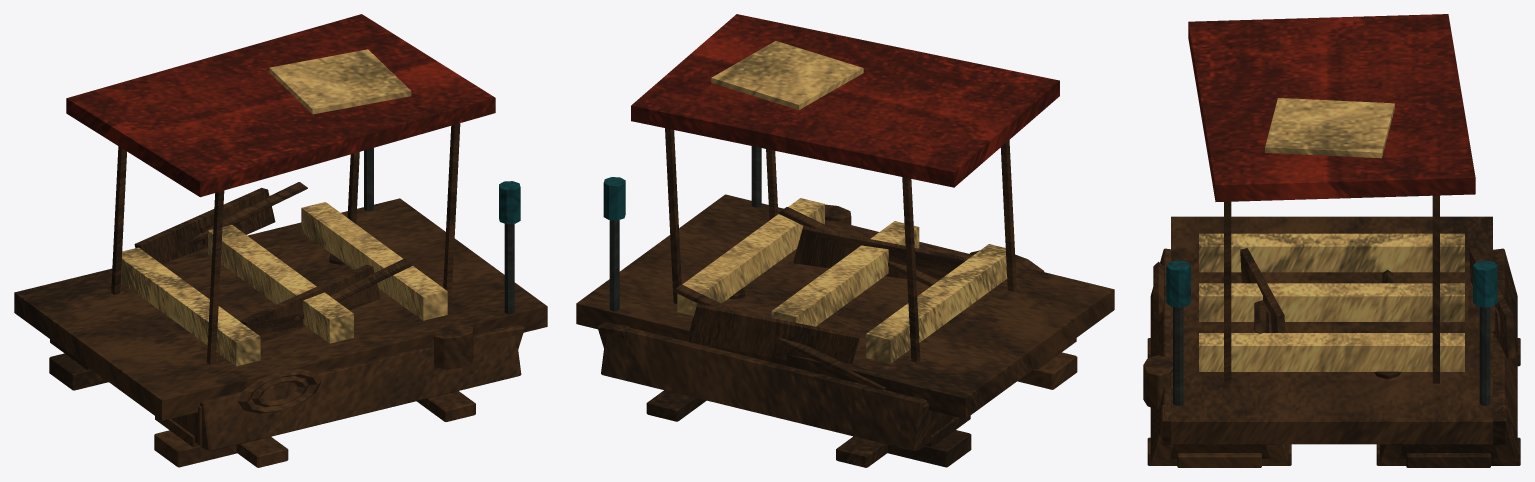
File: spectator-raft-starboard.glb
The picture shows the model from 3 angles, left to right: view 1: azimuth 30°, elevation 25°; view 2: azimuth 150°, elevation 25°; view 3: azimuth 270°, elevation 25°; orthographic projection. The views are drawn at different scales.
Parts seen in each view (by area): view 1: spectator-raft-starboard; view 2: spectator-raft-starboard; view 3: spectator-raft-starboard.
Boxes of the visible parts, box(x1,y1,x2,y2) form: spectator-raft-starboard: box(14, 14, 547, 467); spectator-raft-starboard: box(576, 14, 1114, 467); spectator-raft-starboard: box(1143, 14, 1520, 467).
Bounding box in the file's own units: 4.75 × 3.39 × 3.69.
Materials: 1 (1 with a texture image).
